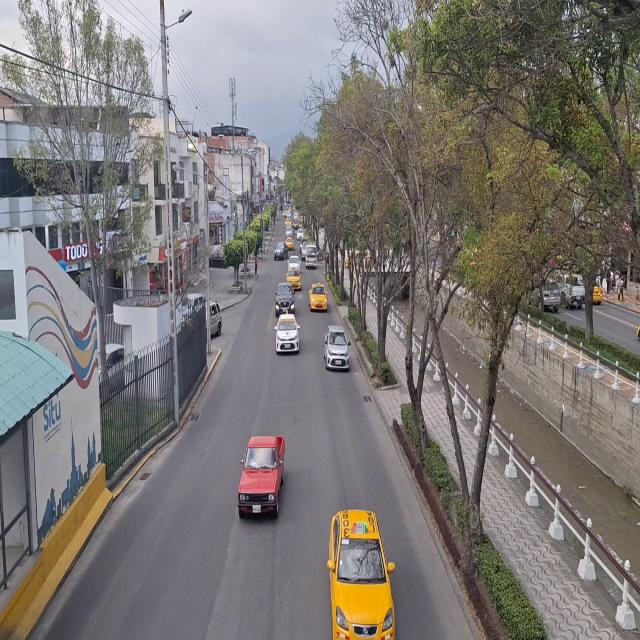CMT: (237, 433, 286, 520)
SED: (330, 508, 396, 638)
